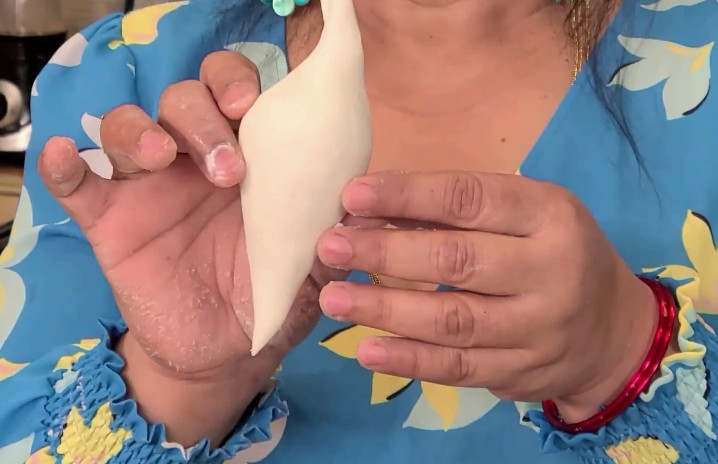yomari: (222, 0, 364, 358)
